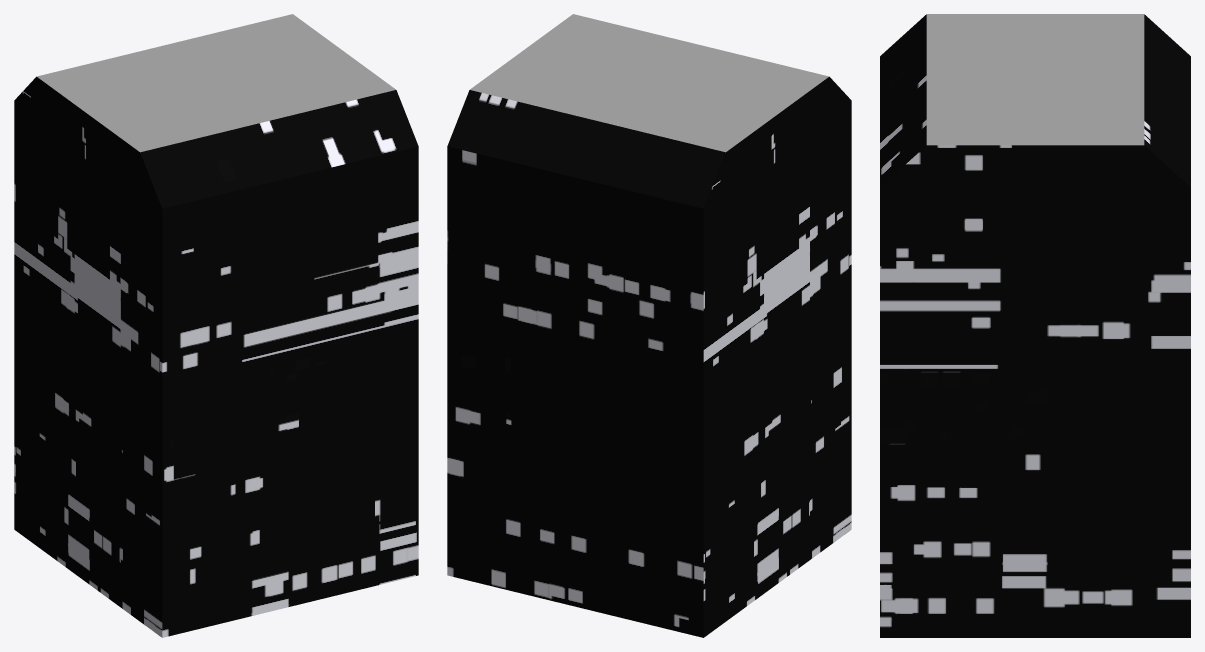
Rendered from Building04.fbx.
3 views of the same model, side by side, from view 1: azimuth 30°, elevation 25°; view 2: azimuth 150°, elevation 25°; view 3: azimuth 270°, elevation 25° (orthographic). The views are drawn at different scales.
Parts seen in each view (by area): view 1: Building04; view 2: Building04; view 3: Building04.
Boxes of the visible parts, x1=… form: Building04: x1=14, y1=14, x2=418, y2=637; Building04: x1=447, y1=14, x2=851, y2=637; Building04: x1=880, y1=14, x2=1190, y2=637.
Size of the model in its own units: 0.3639 by 0.6368 by 0.3639.
